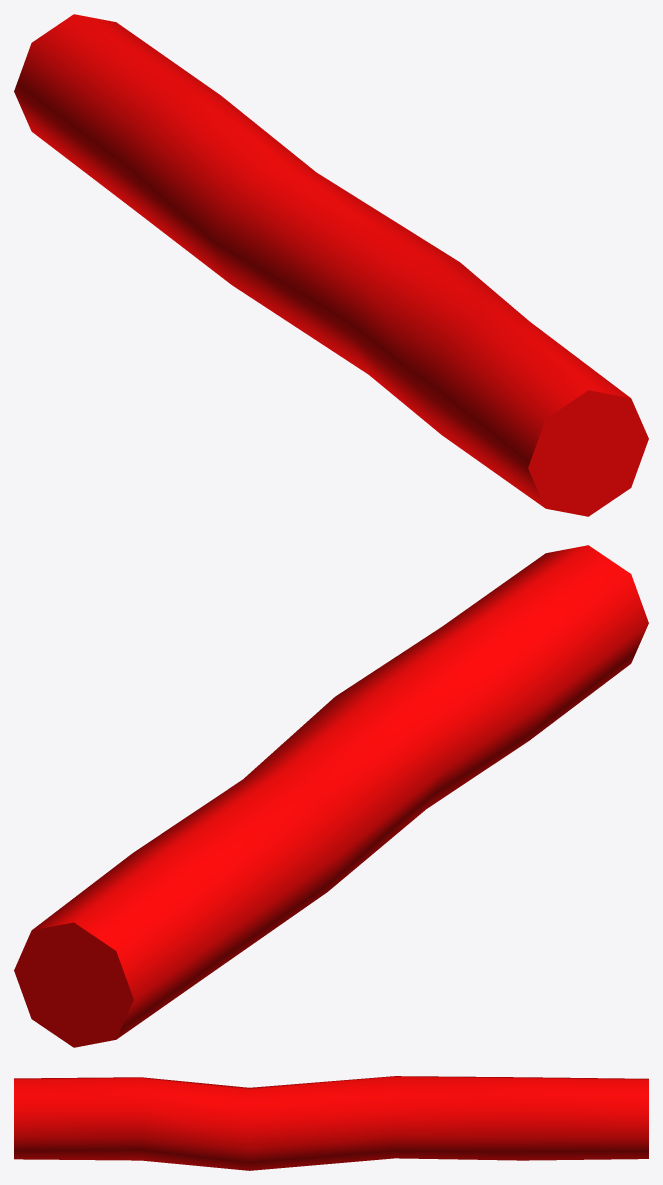
File: Stokkie.FBX
The picture shows the model from 3 angles, top to bottom: view 1: azimuth 30°, elevation 25°; view 2: azimuth 150°, elevation 25°; view 3: azimuth 270°, elevation 25°; orthographic projection. The views are drawn at different scales.
Parts seen in each view (by area): view 1: Stokkie; view 2: Stokkie; view 3: Stokkie.
Boxes of the visible parts, <box> form: Stokkie: <box>14,14,648,516</box>; Stokkie: <box>14,545,648,1047</box>; Stokkie: <box>14,1076,648,1170</box>.
Bounding box in the file's own units: 7.57 × 6.77 × 45.96.
